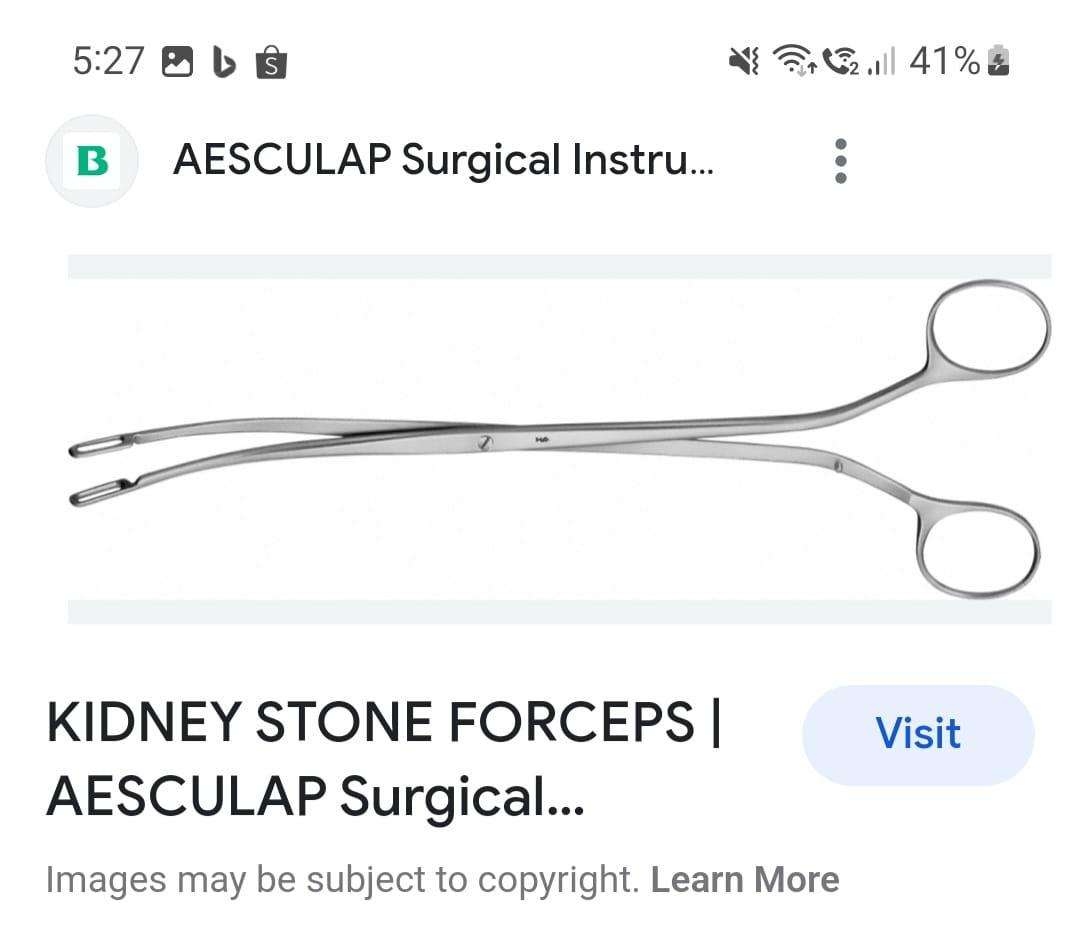Desjardin Forceps: (66, 269, 1053, 609)
